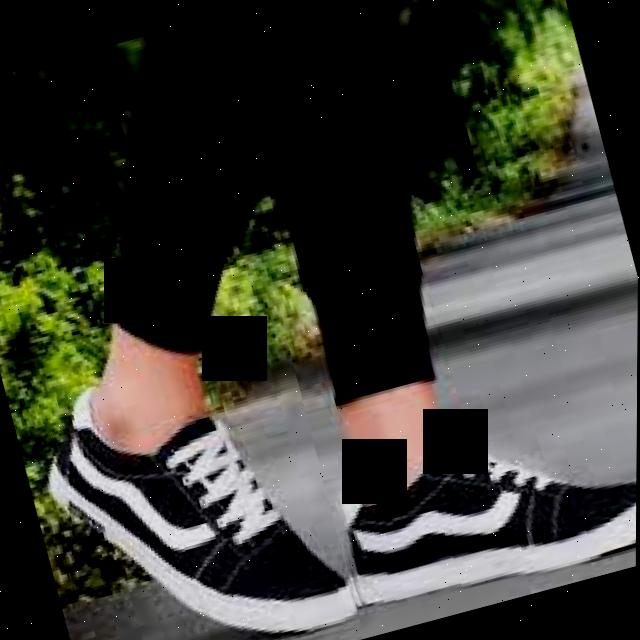shoe: (19, 334, 366, 640), (317, 382, 638, 617)
